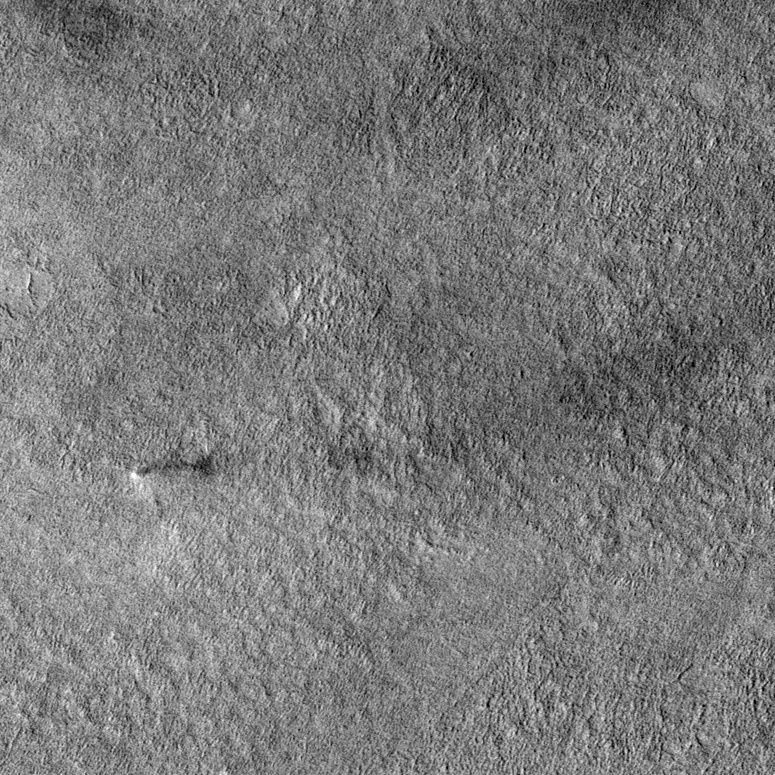dust_devil: (128, 449, 222, 483)
